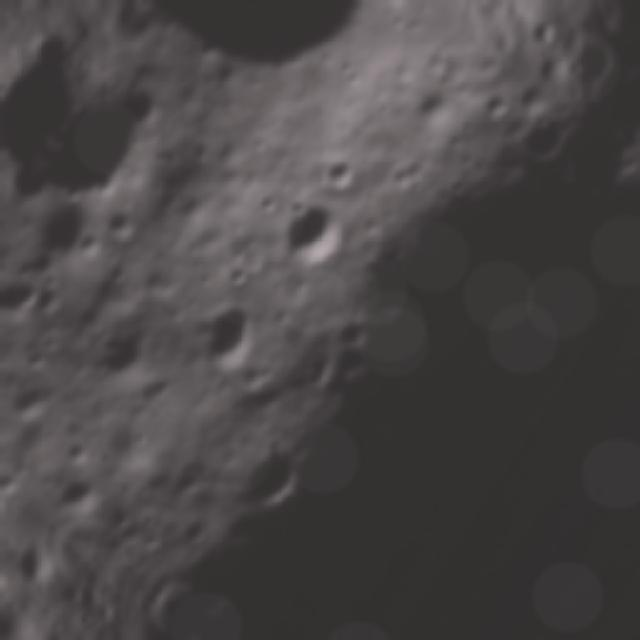crater: (183, 286, 285, 383), (225, 428, 322, 524), (266, 184, 360, 279), (77, 308, 171, 400), (22, 186, 113, 280), (506, 97, 586, 175), (96, 196, 159, 258), (308, 144, 368, 204), (0, 262, 46, 332), (54, 469, 106, 522), (28, 270, 78, 321), (471, 82, 518, 133), (505, 72, 552, 119), (172, 510, 218, 558)
